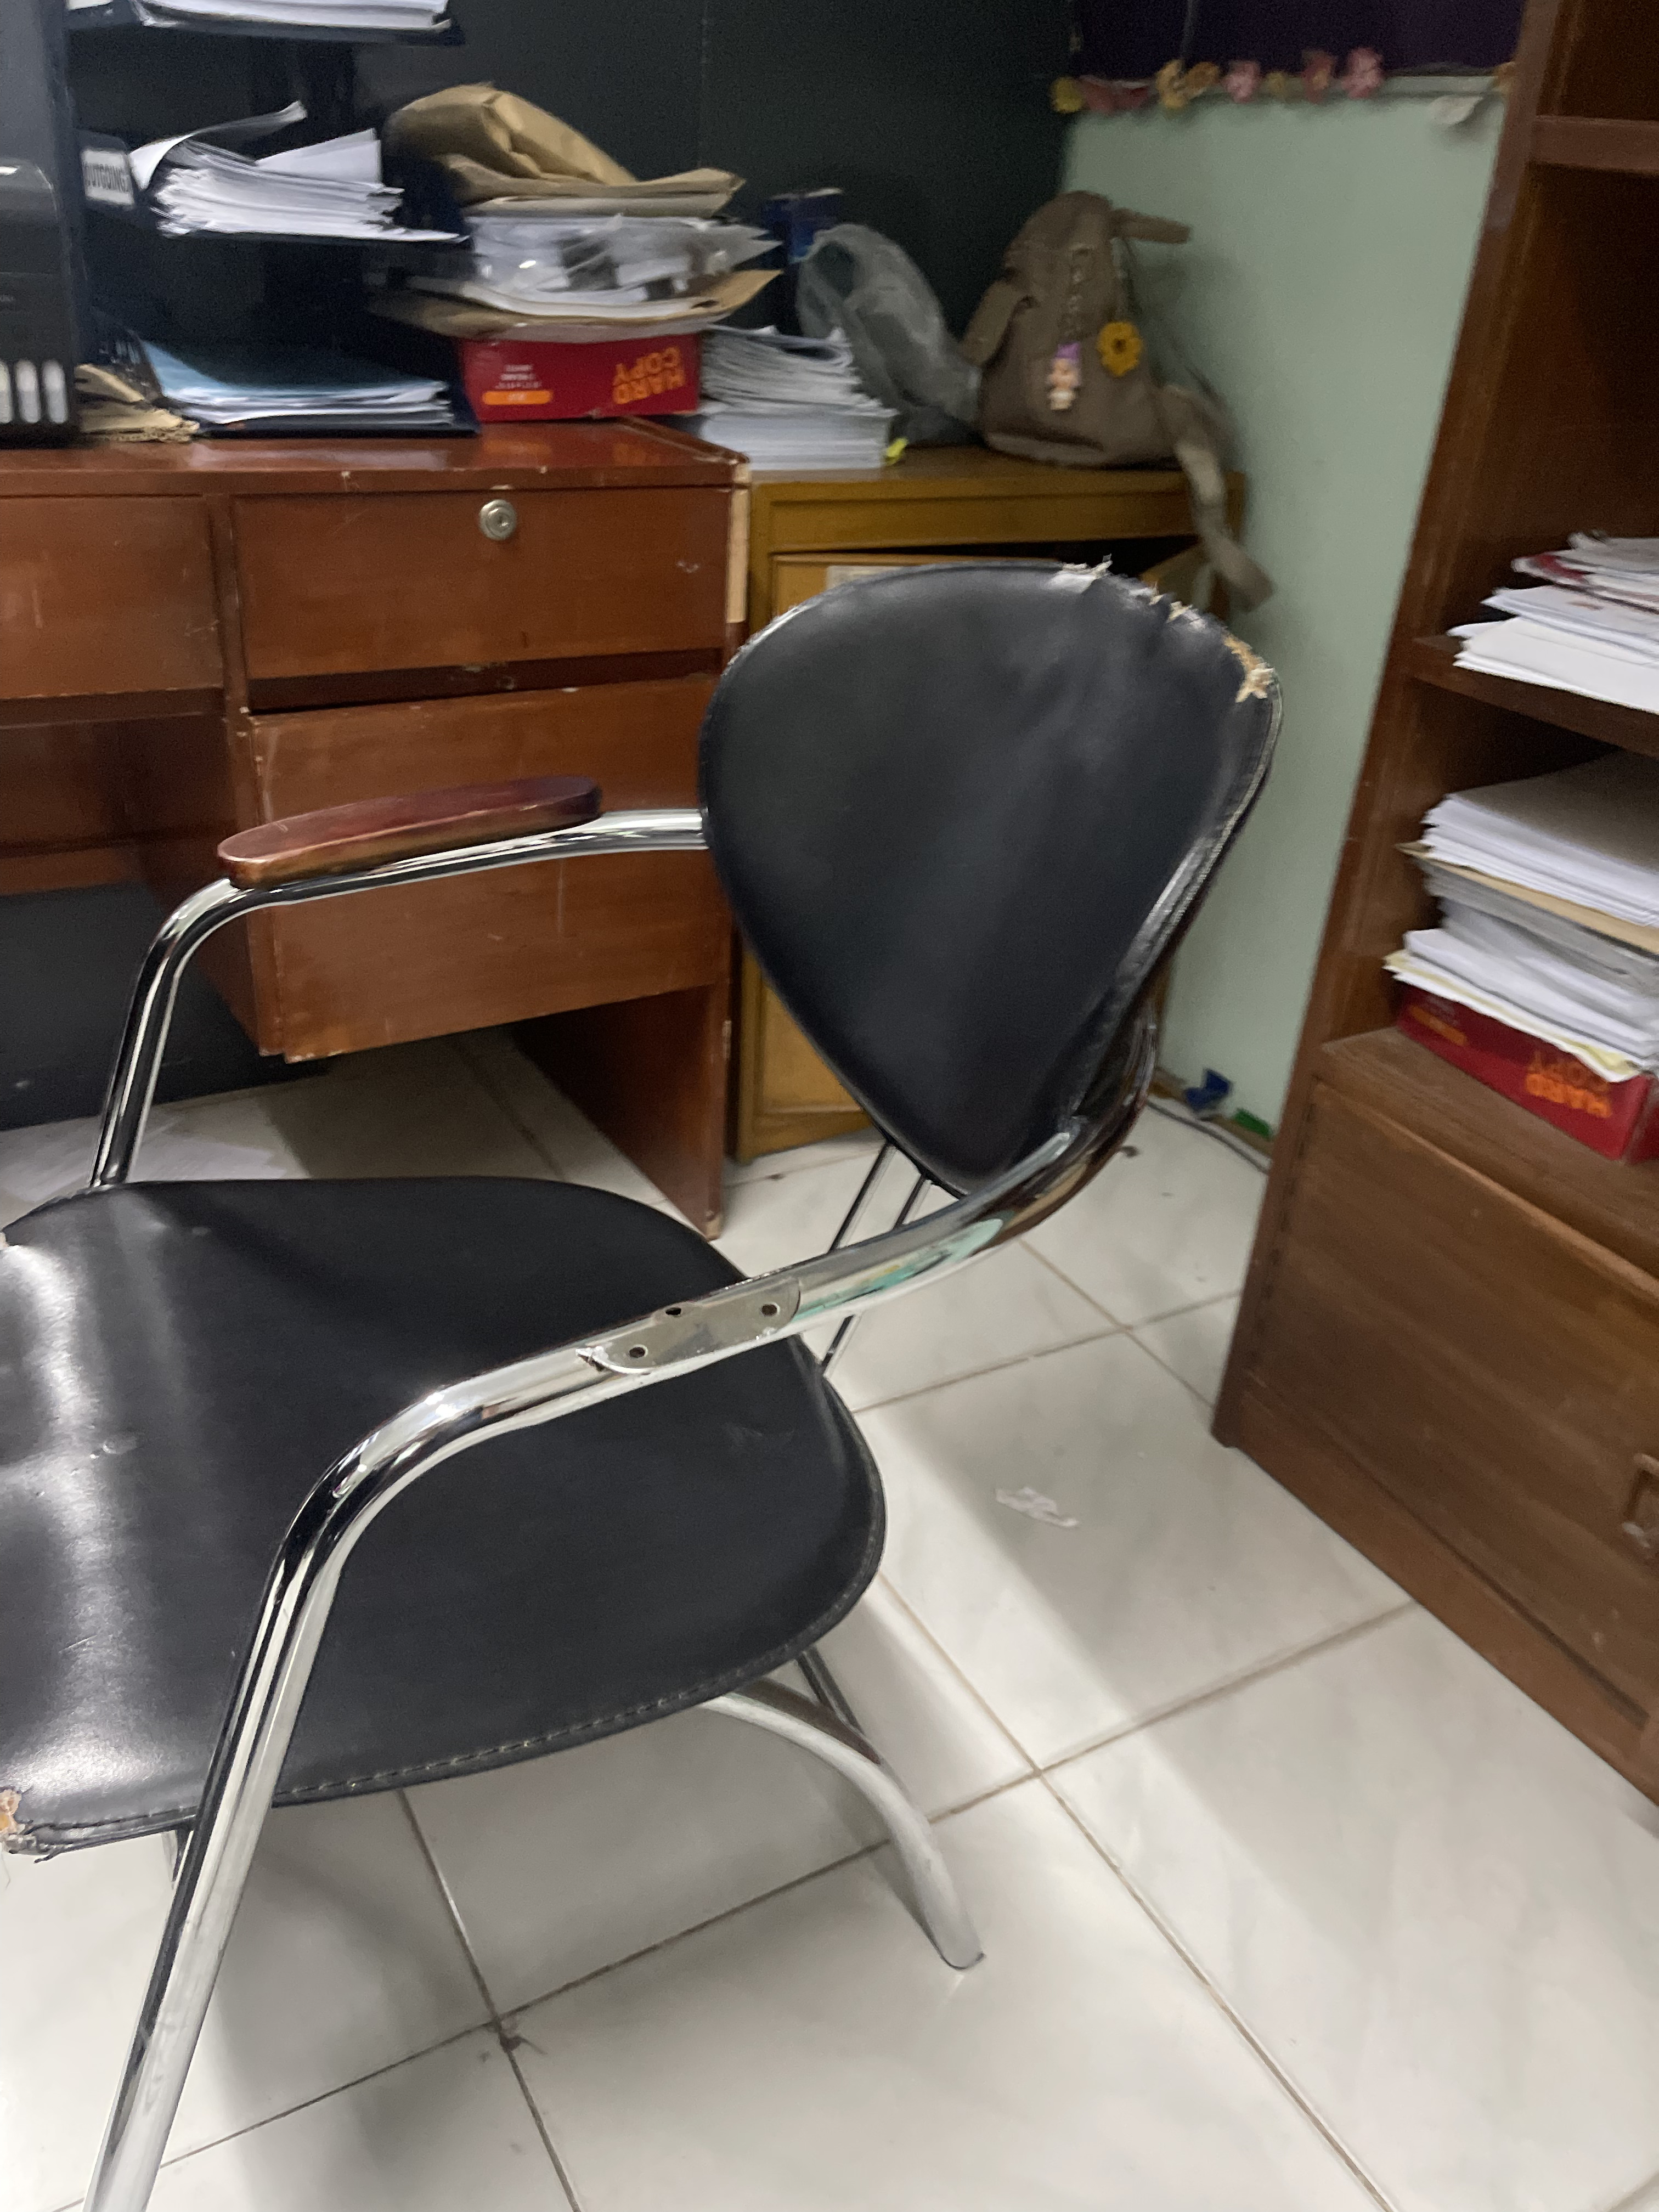chair1: (21, 563, 1283, 2212)
